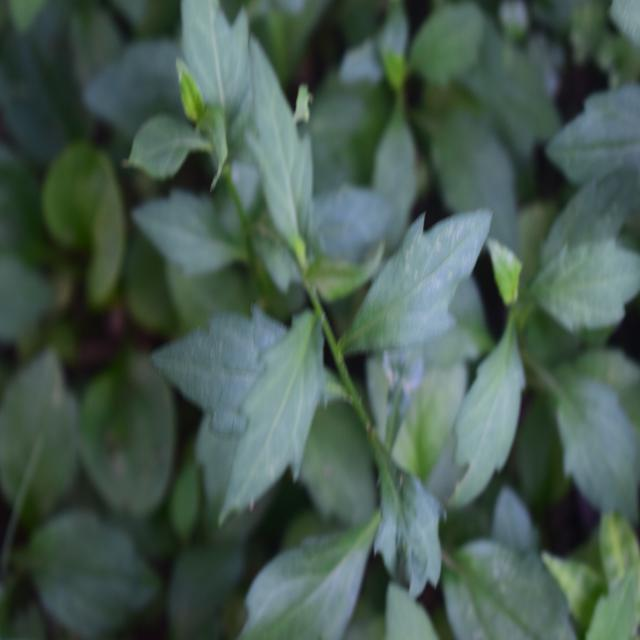Indian aster: (237, 119, 466, 581)
